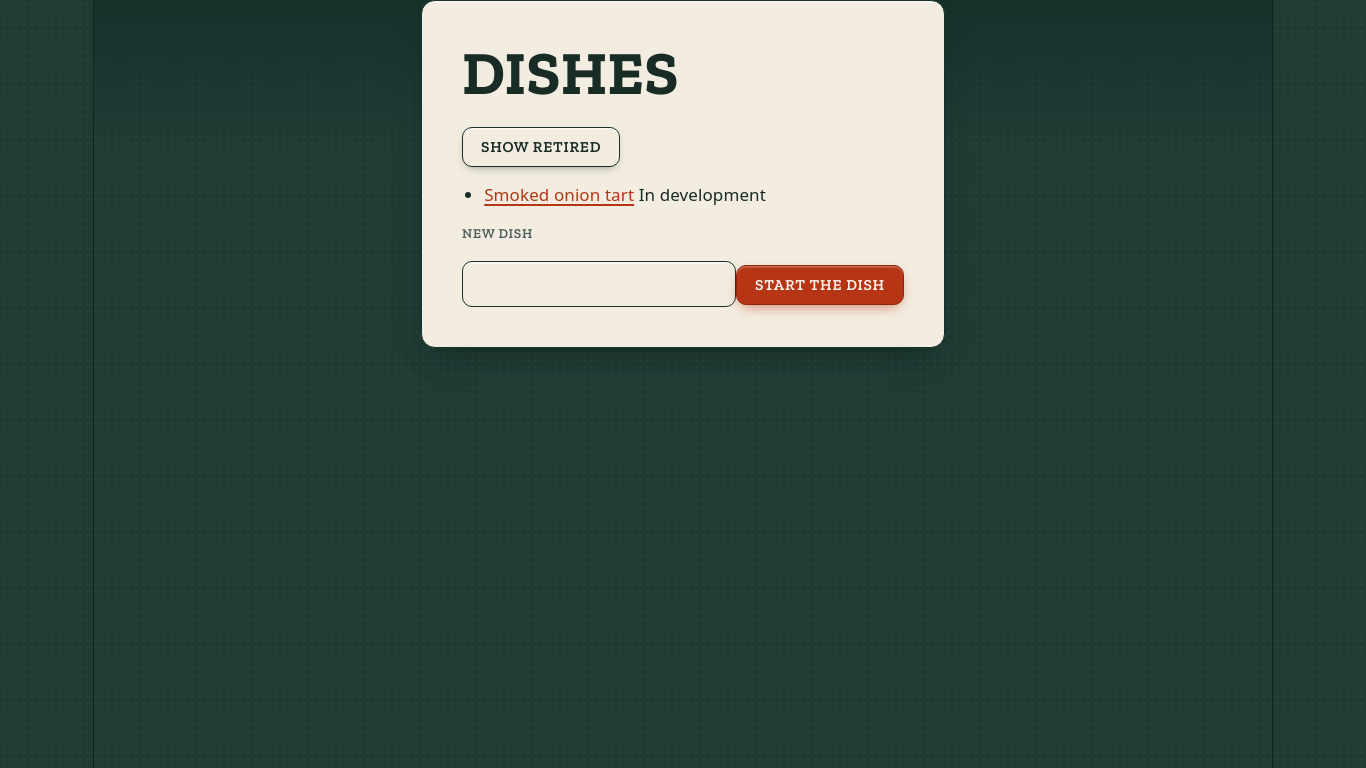
retired dishes › shows it, marked retired, once the toggle is used
Click the button "Show retired".
click(541, 147)  # box [462,127,620,167]
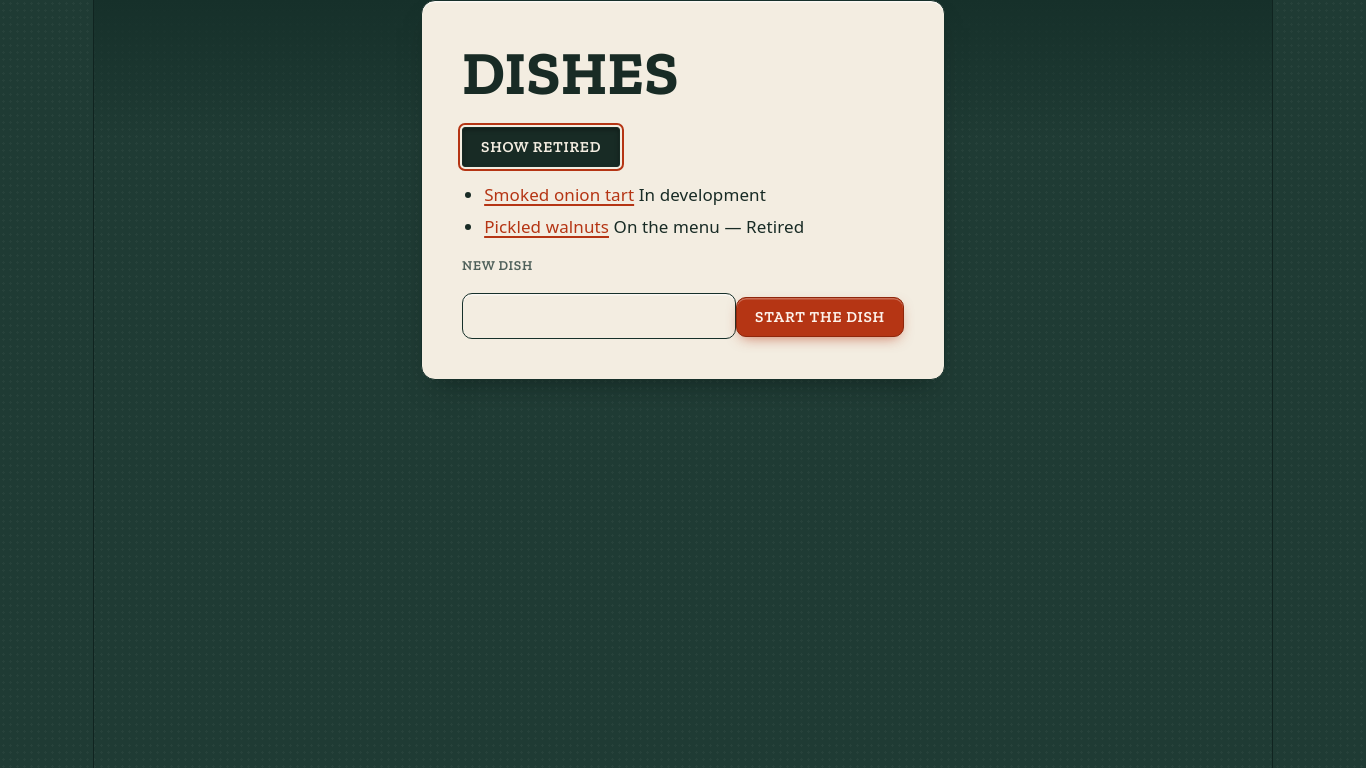
Now the link "Pickled walnuts" is shown, box [484,215,609,238]
Now the text "— Retired" is shown, box [720,215,804,238]
